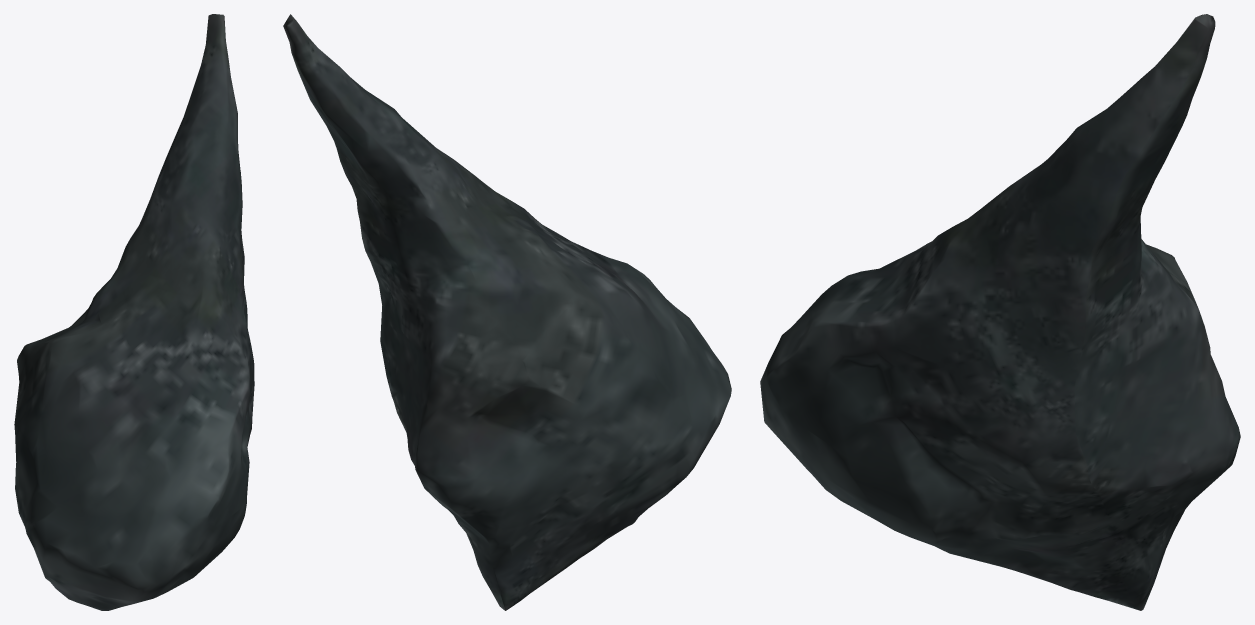
3 renders of one model, left to right at view 1: azimuth 30°, elevation 25°; view 2: azimuth 150°, elevation 25°; view 3: azimuth 270°, elevation 25°, orthographic. The views are drawn at different scales.
Visible parts, largest first — view 1: SM_US_VolcRock_02_v3_LOD0; view 2: SM_US_VolcRock_02_v3_LOD0; view 3: SM_US_VolcRock_02_v3_LOD0.
Boxes of the visible parts, <box> form: SM_US_VolcRock_02_v3_LOD0: <box>14,14,254,610</box>; SM_US_VolcRock_02_v3_LOD0: <box>283,14,731,610</box>; SM_US_VolcRock_02_v3_LOD0: <box>760,14,1240,610</box>.
Size of the model in its own units: 6.07 by 10.65 by 6.52.
Materials: 1 (1 with a texture image).
